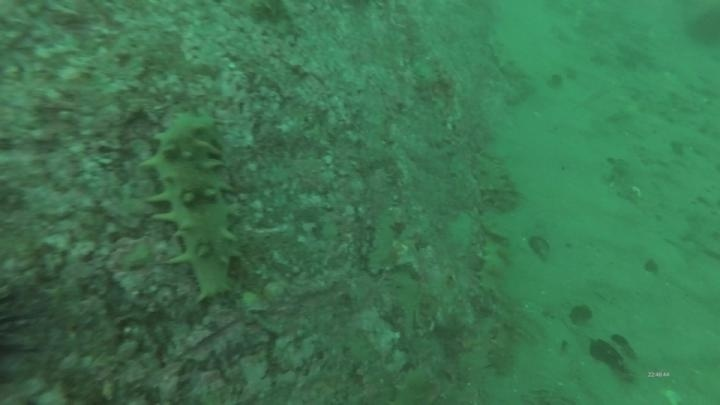echinus: (683, 5, 720, 50)
holothurian: (142, 109, 243, 304), (470, 148, 523, 215), (472, 222, 512, 310), (484, 313, 521, 378)
